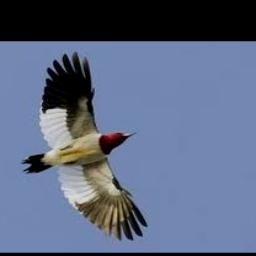Woodpecker: (21, 51, 146, 240)
